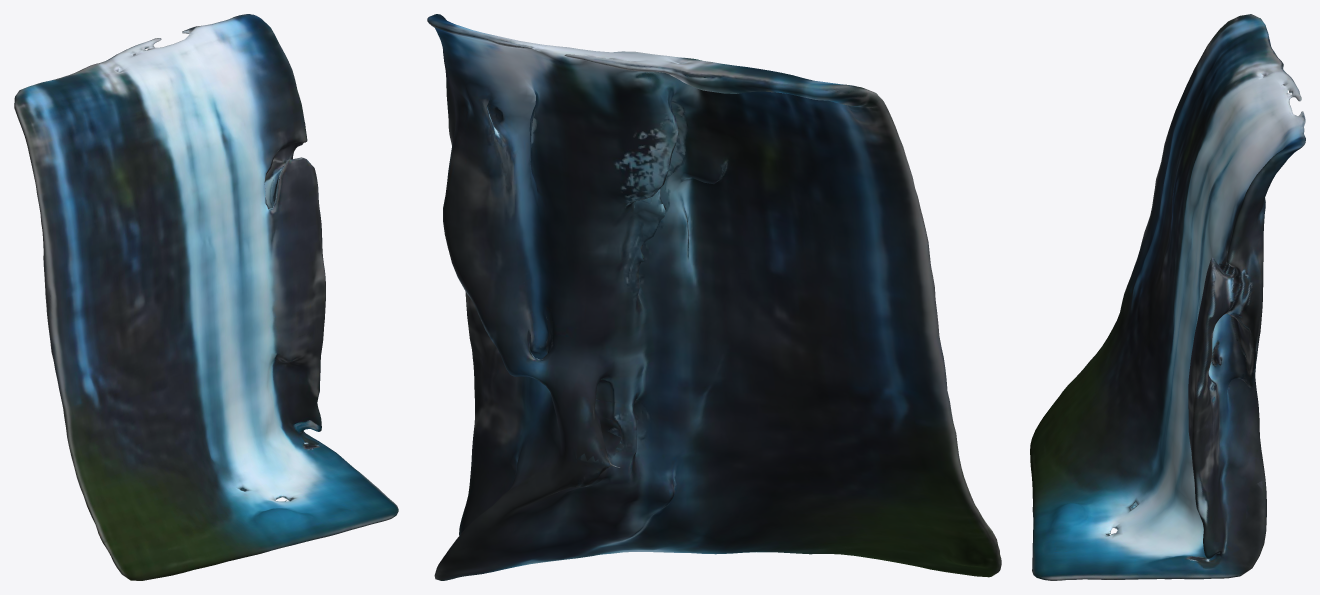
The model's file is waterfall.glb.
3 renders of one model, left to right at view 1: azimuth 30°, elevation 25°; view 2: azimuth 150°, elevation 25°; view 3: azimuth 270°, elevation 25°, orthographic. The views are drawn at different scales.
Visible parts, largest first — view 1: mesh; view 2: mesh; view 3: mesh.
Part boxes in pixels (x1,y1,x2,y2): mesh: (14, 14, 398, 580); mesh: (427, 14, 1001, 580); mesh: (1030, 14, 1305, 580).
Bounding box in the file's own units: 0.7559 × 0.9973 × 0.5796.
1 material, 1 textured.
